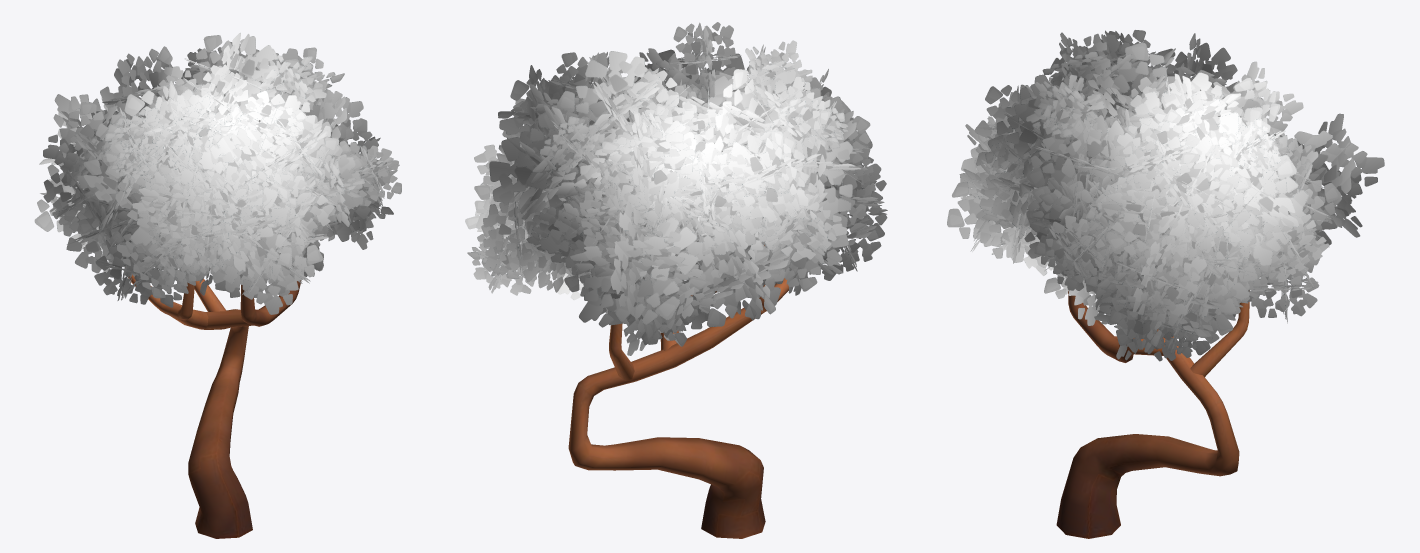
The model's file is STSwiggly4.glb.
The picture shows the model from 3 angles, left to right: view 1: azimuth 30°, elevation 25°; view 2: azimuth 150°, elevation 25°; view 3: azimuth 270°, elevation 25°; orthographic projection. The views are drawn at different scales.
Parts seen in each view (by area): view 1: Leaf.078; view 2: Leaf.078; view 3: Leaf.078.
Boxes of the visible parts, x1,y1,x2,y2 form: Leaf.078: (34,32,401,538); Leaf.078: (465,22,887,538); Leaf.078: (947,30,1384,538).
Size of the model in its own units: 4.67 by 5.96 by 5.2.
Materials: 2 (2 with a texture image).
